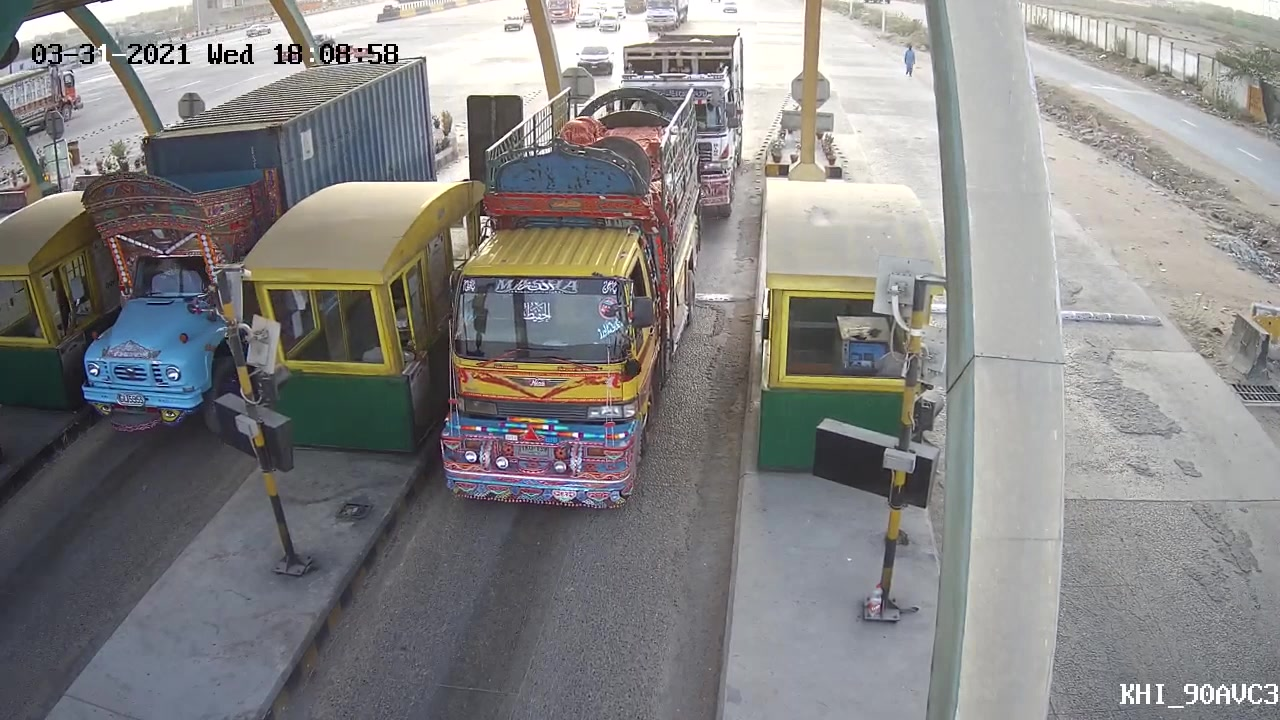F5: (433, 82, 707, 516)
